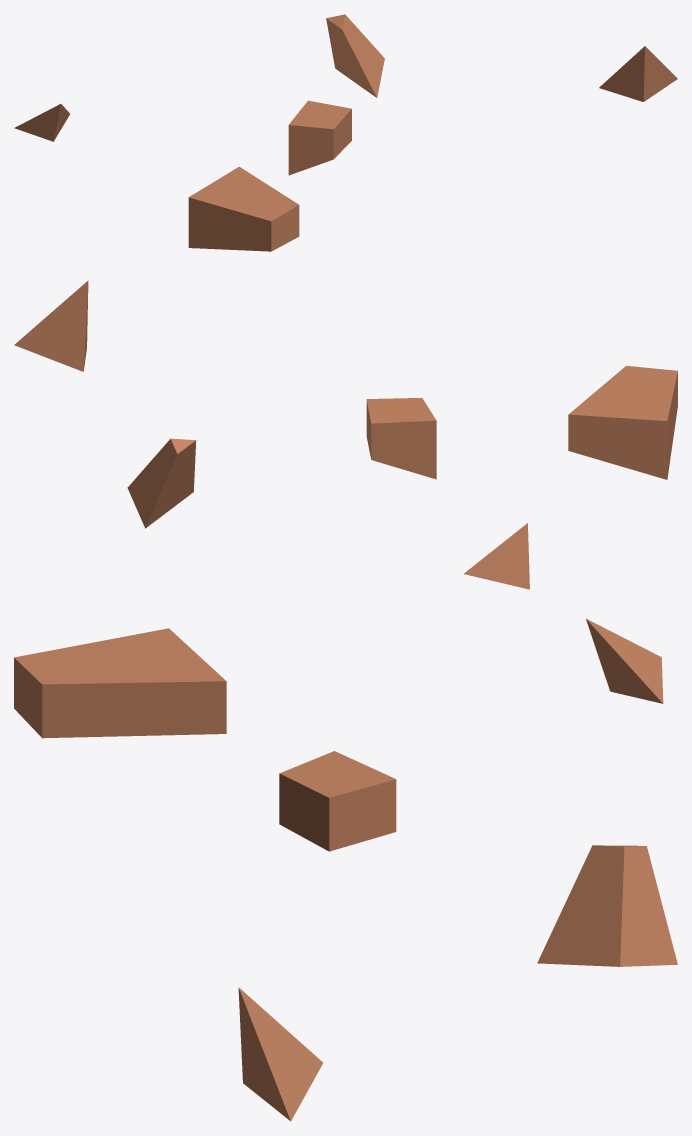
Rendered from Brick_Pile_s_03.fbx.
3 renders of one model, top to bottom at view 1: azimuth 30°, elevation 25°; view 2: azimuth 150°, elevation 25°; view 3: azimuth 270°, elevation 25°, orthographic. The views are drawn at different scales.
Parts seen in each view (by area): view 1: Brick_Pile_s_03; view 2: Brick_Pile_s_03; view 3: Brick_Pile_s_03.
Boxes of the visible parts, x1,y1,x2,y2 form: Brick_Pile_s_03: [14, 14, 677, 251]; Brick_Pile_s_03: [14, 280, 677, 589]; Brick_Pile_s_03: [14, 618, 677, 1121].
Bounding box in the file's own units: 47.32 × 6.07 × 29.17.
